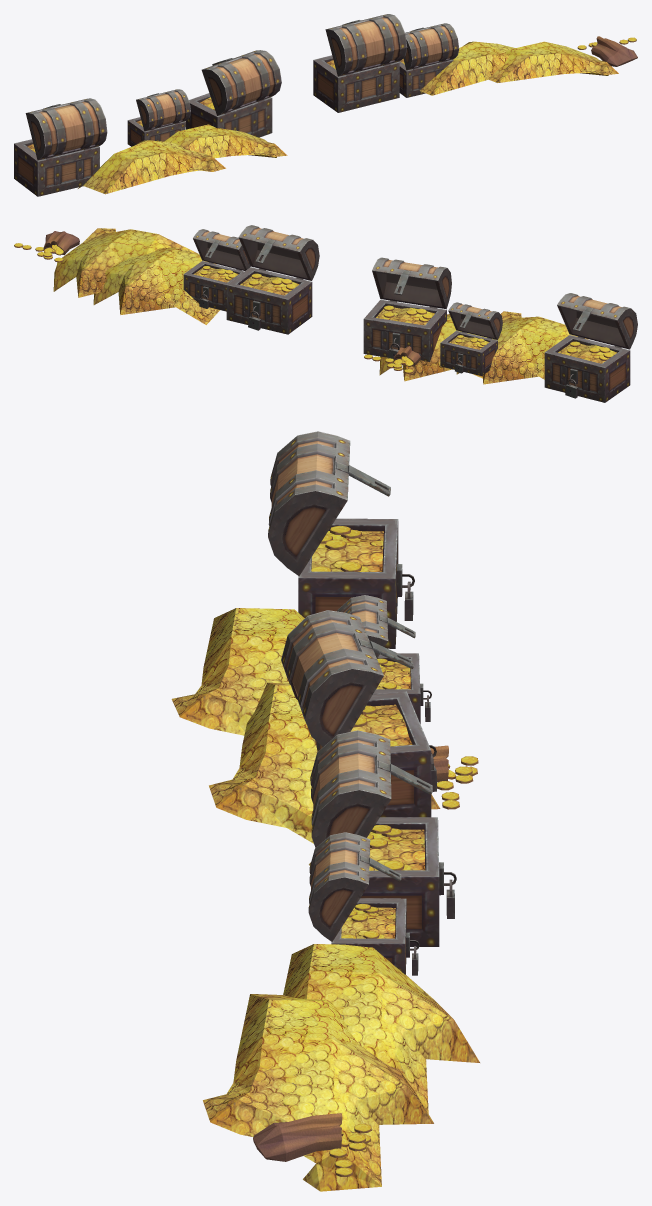
The model's file is Area_10_16.fbx.
3 renders of one model, top to bottom at view 1: azimuth 30°, elevation 25°; view 2: azimuth 150°, elevation 25°; view 3: azimuth 270°, elevation 25°, orthographic. The views are drawn at different scales.
Visible parts, largest first — view 1: Area_10_16; view 2: Area_10_16; view 3: Area_10_16.
Boxes of the visible parts, x1,y1,x2,y2 form: Area_10_16: (14,14,637,196); Area_10_16: (14,225,637,402); Area_10_16: (171,431,479,1191).
Bounding box in the file's own units: 2064 × 358 × 457.
